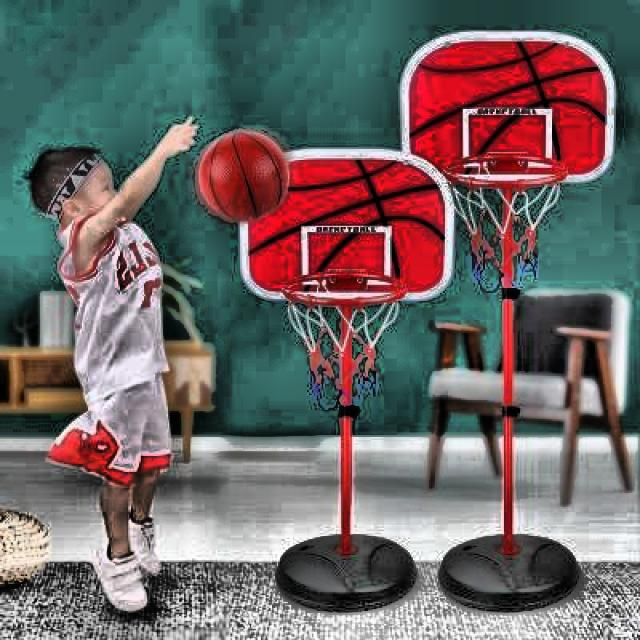board: (199, 130, 289, 222)
rim: (282, 272, 404, 408), (447, 154, 567, 288)
